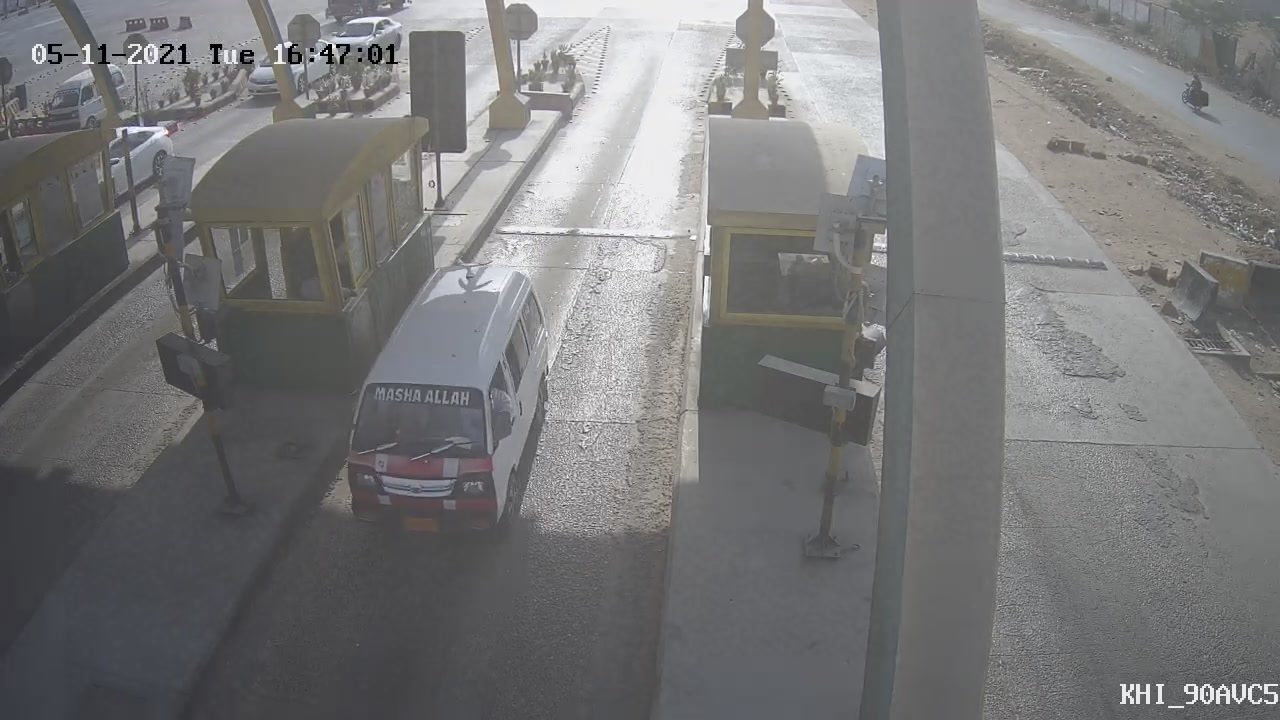F1: (309, 243, 572, 573)
